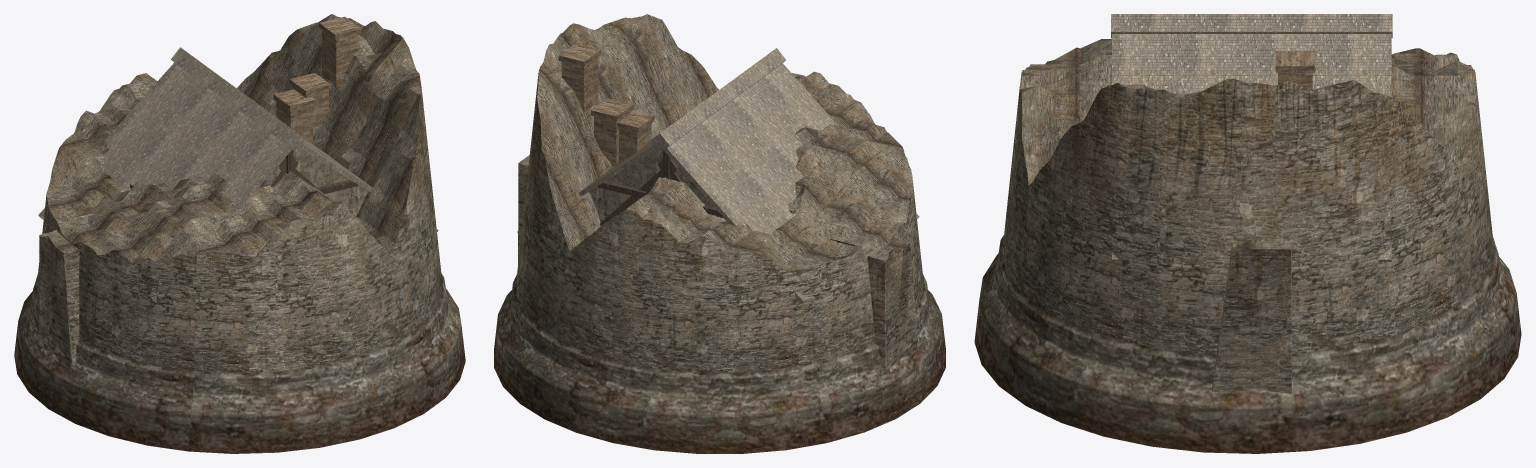
The model's file is props.glb.
The picture shows the model from 3 angles, left to right: view 1: azimuth 30°, elevation 25°; view 2: azimuth 150°, elevation 25°; view 3: azimuth 270°, elevation 25°; orthographic projection. The views are drawn at different scales.
Visible parts, largest first — view 1: ruin_tower, house_chief, ruin_wall_a, ruin_wall_b, house_b, house_c; view 2: ruin_tower, house_chief, ruin_wall_b, ruin_wall_a, house_c, house_b, house_a; view 3: ruin_tower, house_chief, ruin_wall_b, ruin_wall_a.
Part boxes in pixels (x1=…): ruin_tower: x1=14, y1=14, x2=465, y2=453; house_chief: x1=38, y1=16, x2=438, y2=301; ruin_wall_a: x1=39, y1=236, x2=72, y2=369; ruin_wall_b: x1=39, y1=213, x2=96, y2=368; house_b: x1=273, y1=89, x2=315, y2=143; house_c: x1=289, y1=73, x2=331, y2=135; ruin_tower: x1=494, y1=14, x2=945, y2=453; house_chief: x1=517, y1=43, x2=919, y2=303; ruin_wall_b: x1=518, y1=155, x2=912, y2=371; ruin_wall_a: x1=518, y1=233, x2=918, y2=371; house_c: x1=591, y1=98, x2=666, y2=228; house_b: x1=617, y1=110, x2=654, y2=163; house_a: x1=599, y1=159, x2=681, y2=225; ruin_tower: x1=974, y1=39, x2=1521, y2=453; house_chief: x1=1111, y1=14, x2=1392, y2=261; ruin_wall_b: x1=1212, y1=238, x2=1291, y2=392; ruin_wall_a: x1=1212, y1=333, x2=1291, y2=393.
Size of the model in its own units: 15.84 by 11.22 by 15.84.
Materials: 29 (27 with a texture image).
